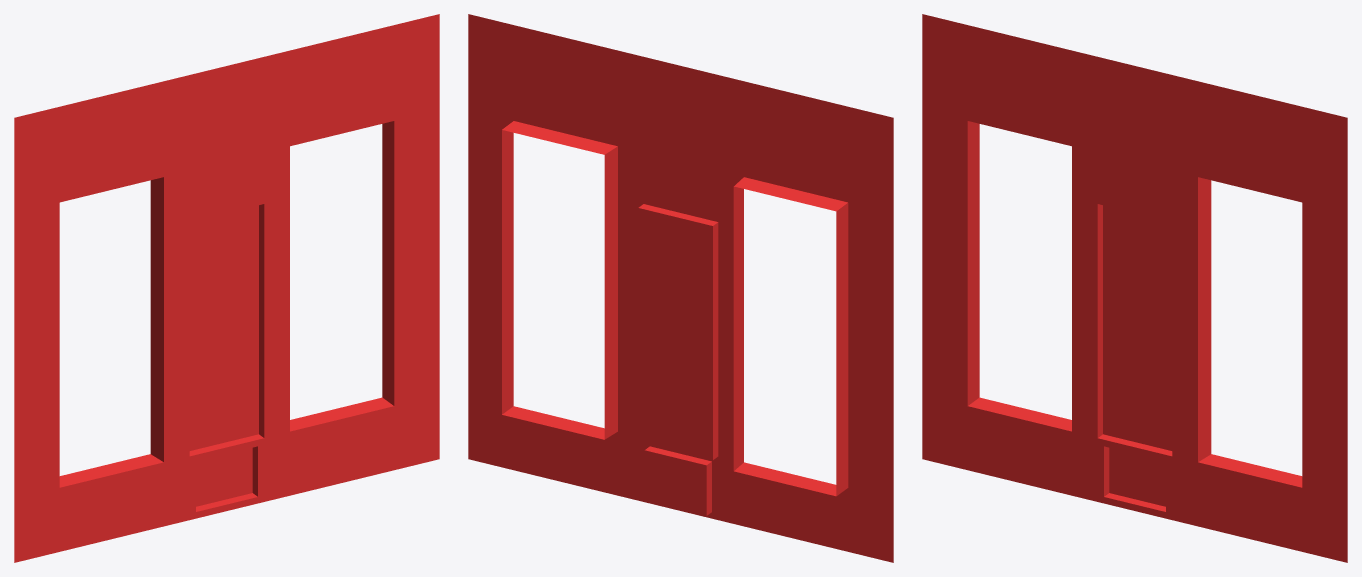
The model's file is palace_wall_A_up.fbx.
3 views of the same model, side by side, from view 1: azimuth 30°, elevation 25°; view 2: azimuth 150°, elevation 25°; view 3: azimuth 330°, elevation 25° (orthographic).
Parts seen in each view (by area): view 1: palace_wall_A_up; view 2: palace_wall_A_up; view 3: palace_wall_A_up.
Part boxes in pixels (x1,y1,x2,y2): palace_wall_A_up: [14, 14, 439, 562]; palace_wall_A_up: [468, 14, 893, 562]; palace_wall_A_up: [922, 14, 1347, 562].
Size of the model in its own units: 400 by 400 by 19.26.
